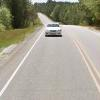Car: (41, 20, 68, 42)
